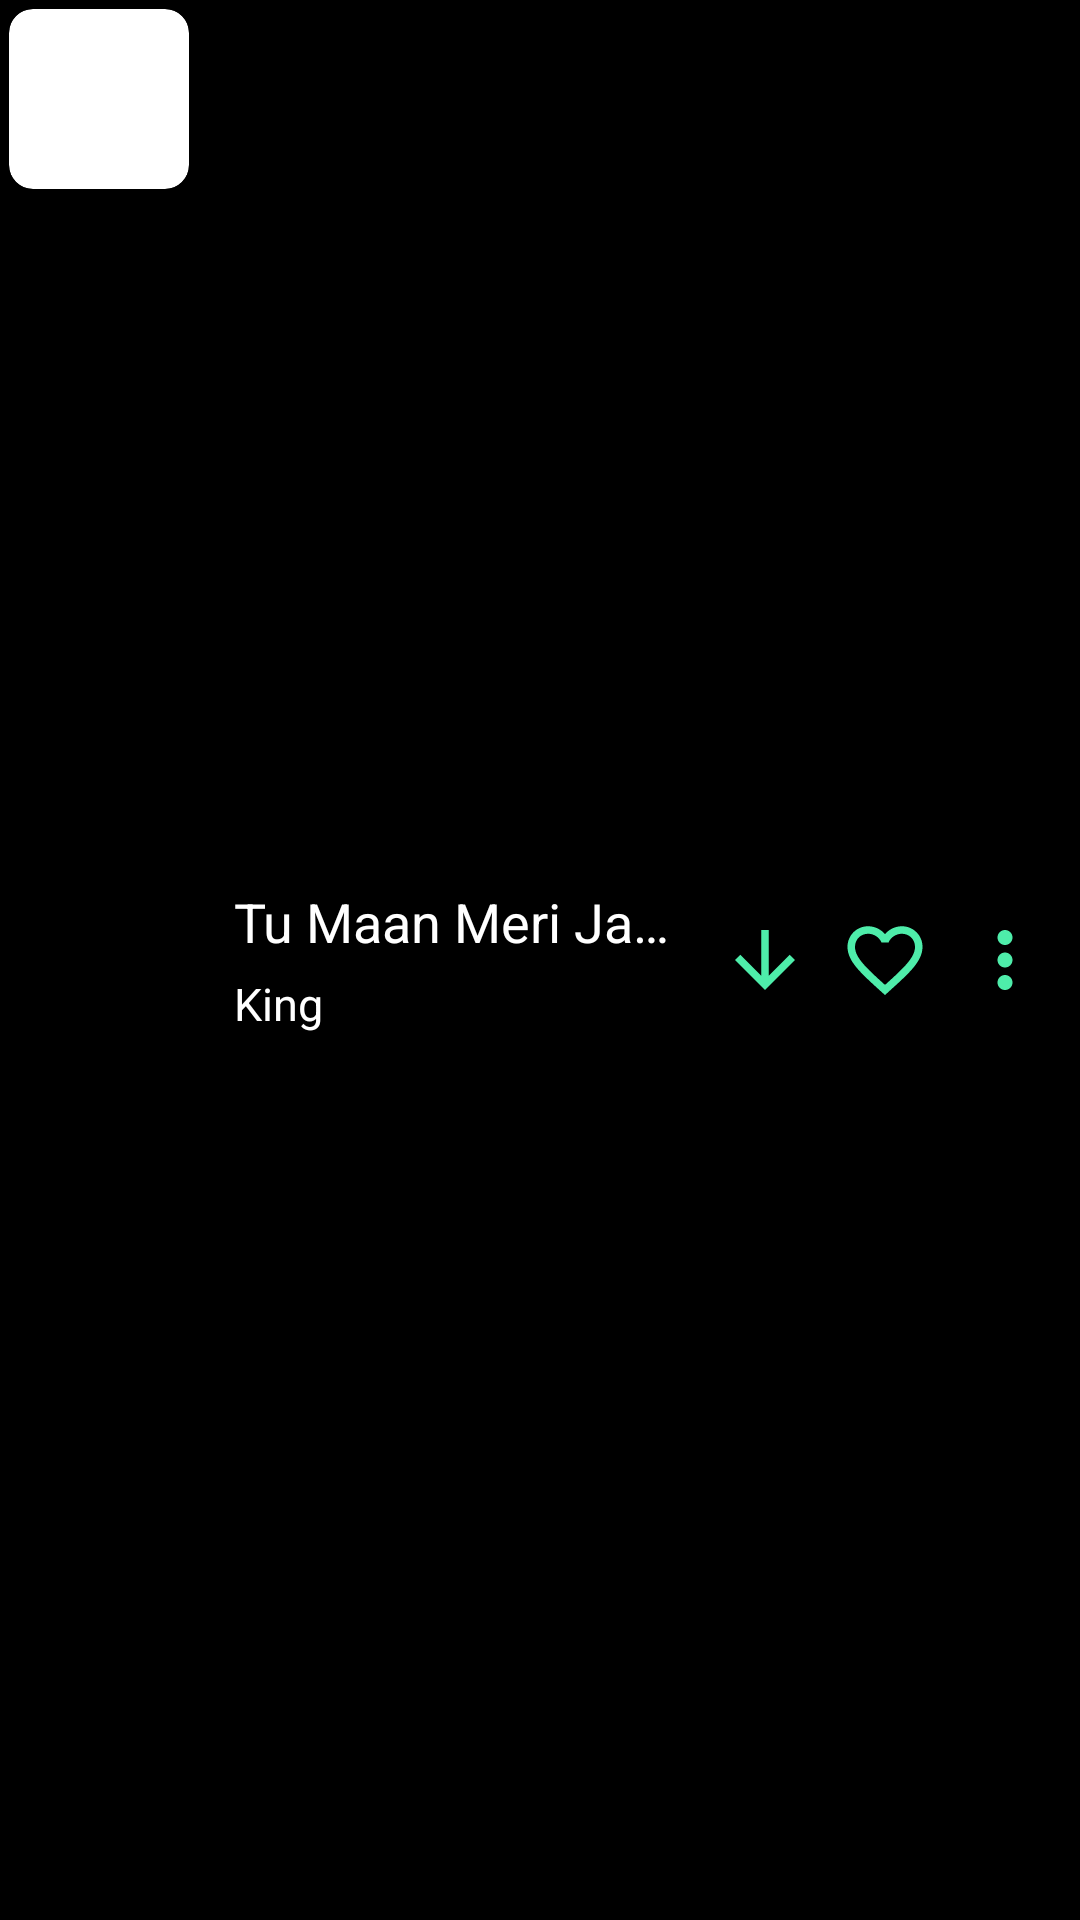

Screen size 1080*1920. Icon name, then its center in pixels as [x,y]:
arrow down: [765,960]
like: [885,960]
menu: [1005,960]
